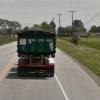Bus: (16, 26, 62, 79)
